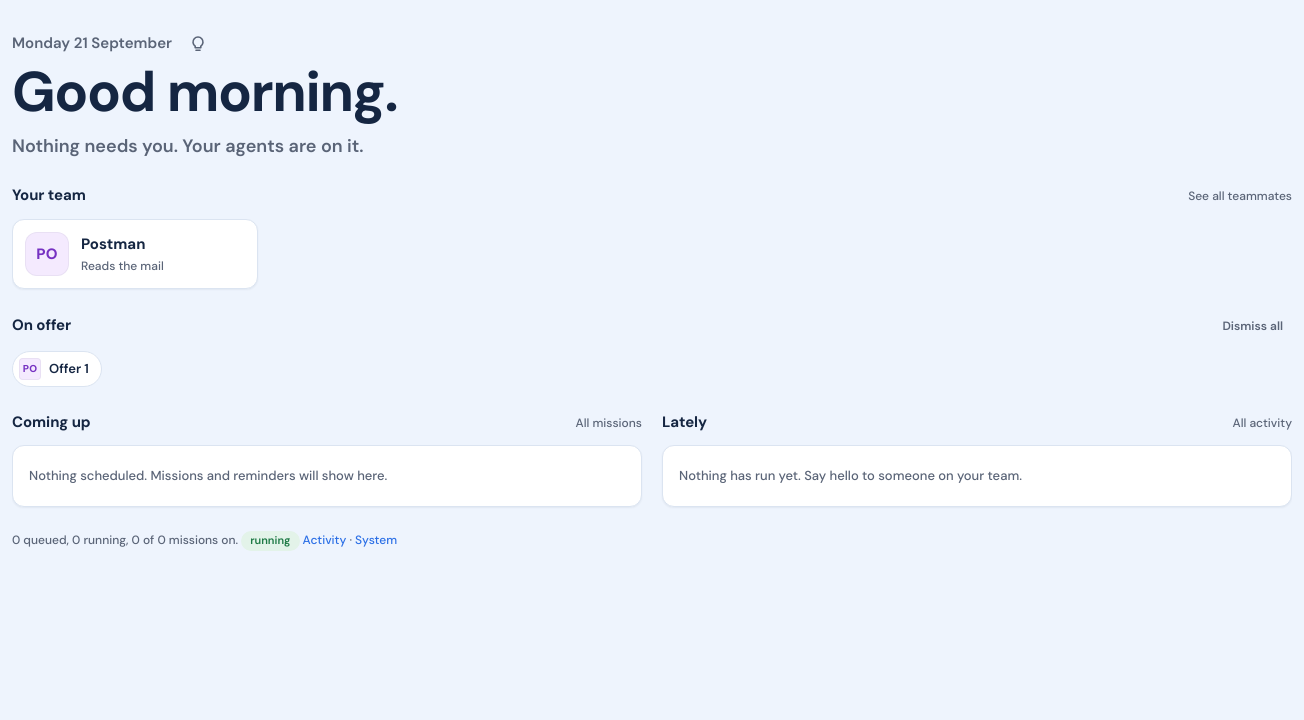
Test: Home, "On offer" › lets the owner back out of clearing the list
Check: the heading "On offer" is shown, box [12,314,71,336]
What coordinates should you click on to do the following:
click the button "Dismiss all"
I would click on:
 (1253, 326)
Its box is [1213,313,1292,339].
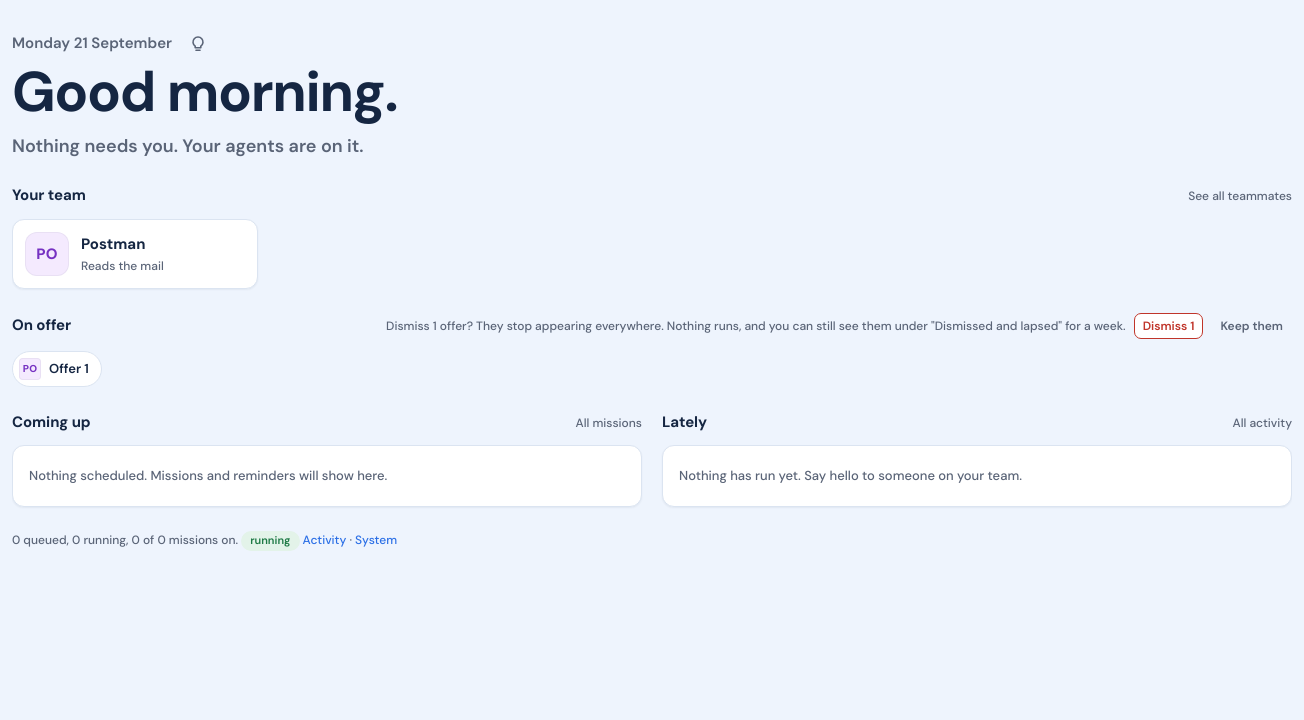
What coordinates should you click on to do the following:
click the button "Keep them"
I would click on:
 (1252, 326)
Its box is [1212,313,1292,339].
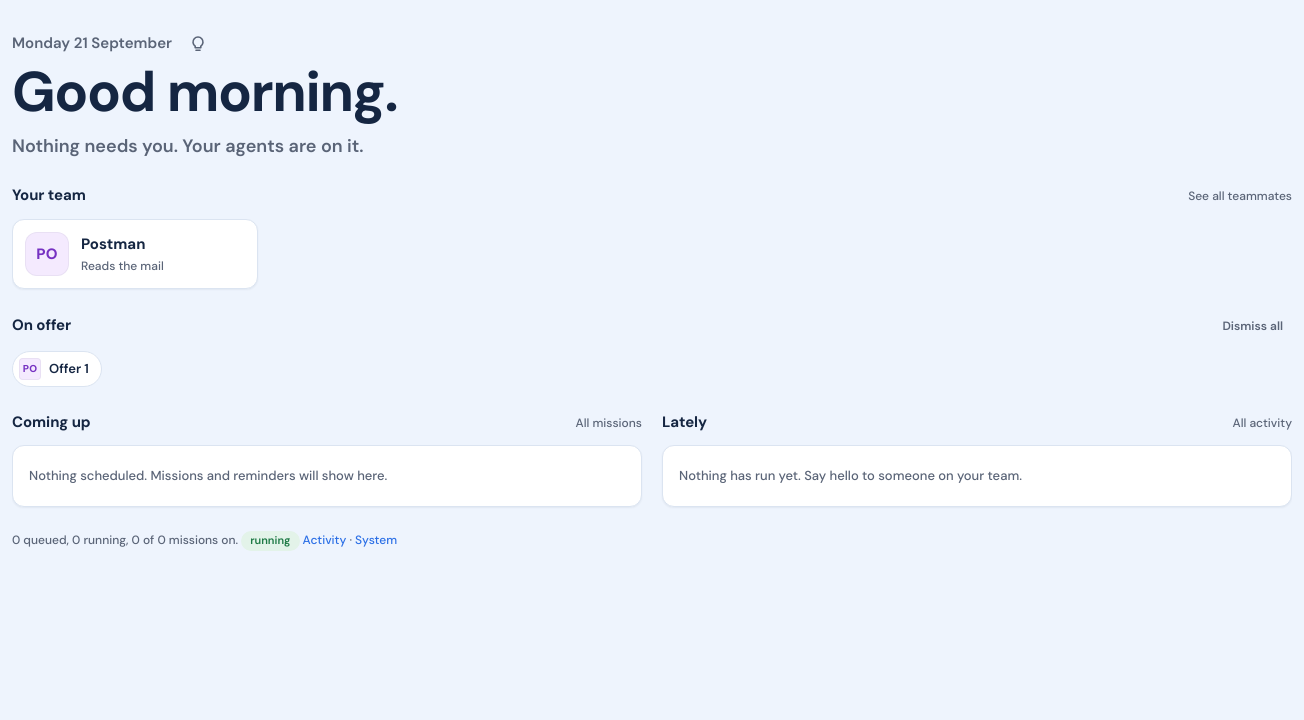
Check: the button "Dismiss all" is shown, box [1213,313,1292,339]
